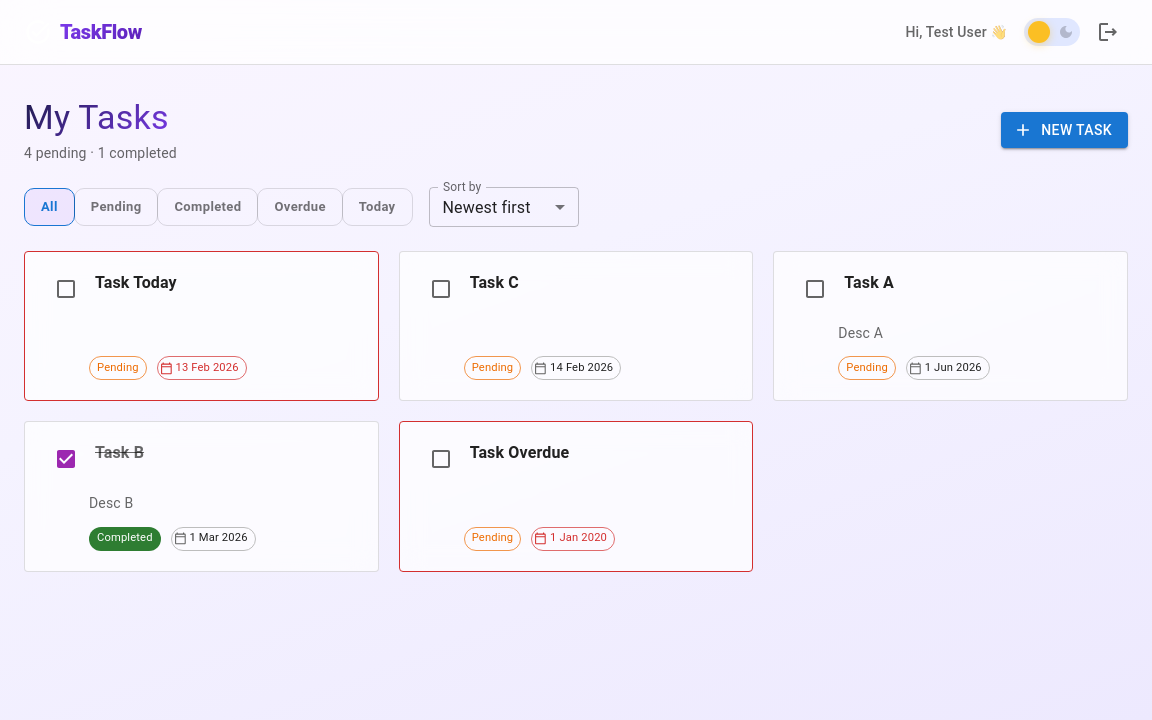
Test case: DashboardPage › filters to show only tasks due today
Click the button "Today": [377, 207] box [342, 188, 413, 226]
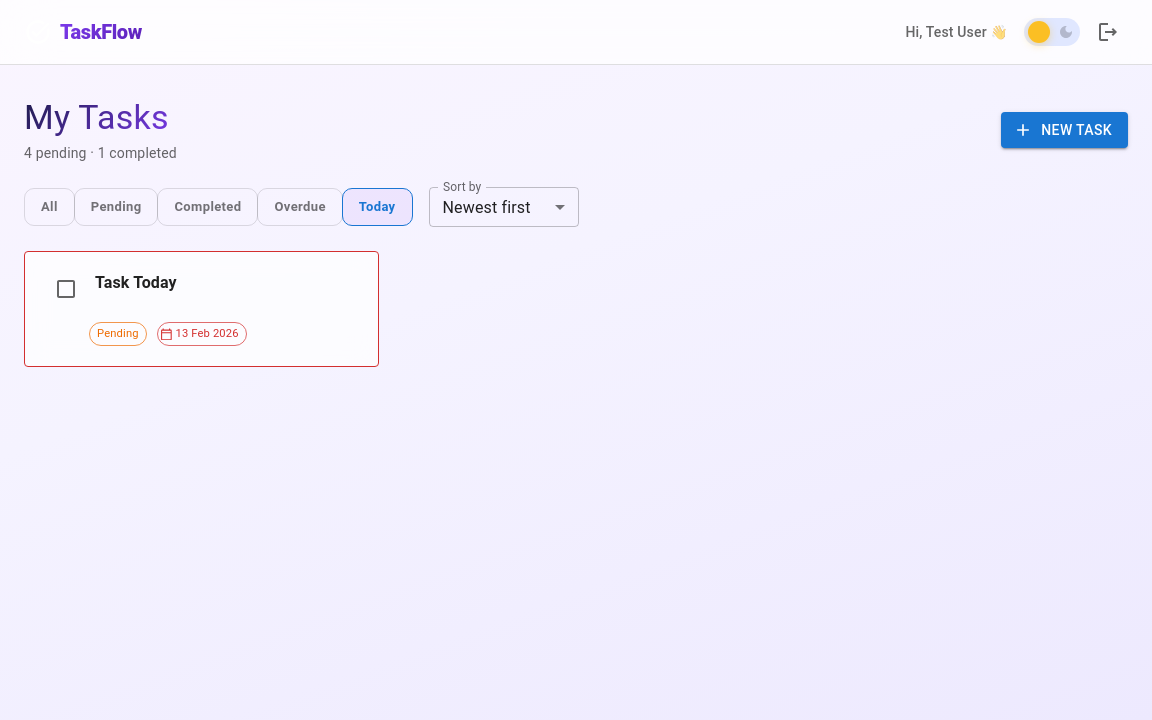
Check: the text "Task Today" is shown, box [95, 273, 177, 292]
Check: the text "Task Overdue" is gone
